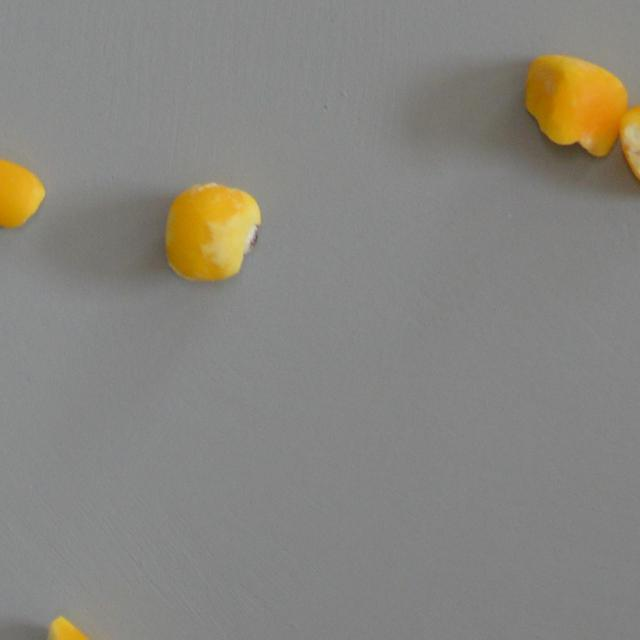estandar: (521, 48, 628, 160)
pelicula: (0, 134, 55, 236), (614, 96, 640, 198)
punto_negro: (158, 182, 270, 284)
